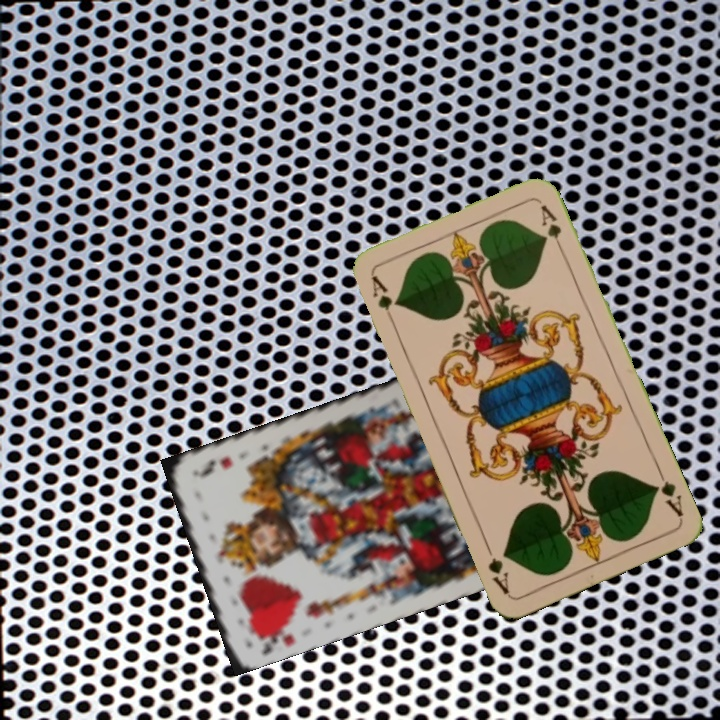GA: (649, 464, 686, 520), (368, 271, 398, 328)
HK: (252, 618, 298, 658)
